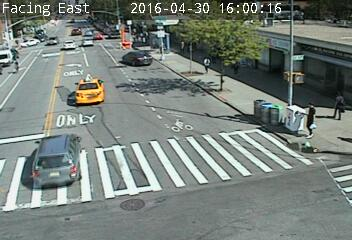neg: (2, 48, 28, 83), (281, 171, 304, 202), (317, 173, 340, 204), (278, 6, 299, 34), (240, 95, 260, 122), (221, 171, 241, 198), (37, 49, 56, 74), (138, 16, 157, 41), (149, 88, 168, 112), (264, 68, 282, 92), (106, 34, 123, 57), (154, 118, 170, 139), (198, 115, 214, 135), (73, 55, 88, 76), (54, 146, 68, 165), (157, 169, 170, 188), (93, 164, 106, 181), (142, 60, 151, 73), (232, 22, 241, 34), (269, 34, 278, 46), (111, 134, 120, 146), (78, 91, 86, 102), (184, 25, 192, 36), (49, 115, 54, 122)
pos: (293, 98, 325, 142), (324, 83, 351, 128), (223, 54, 241, 77), (196, 54, 213, 76)
